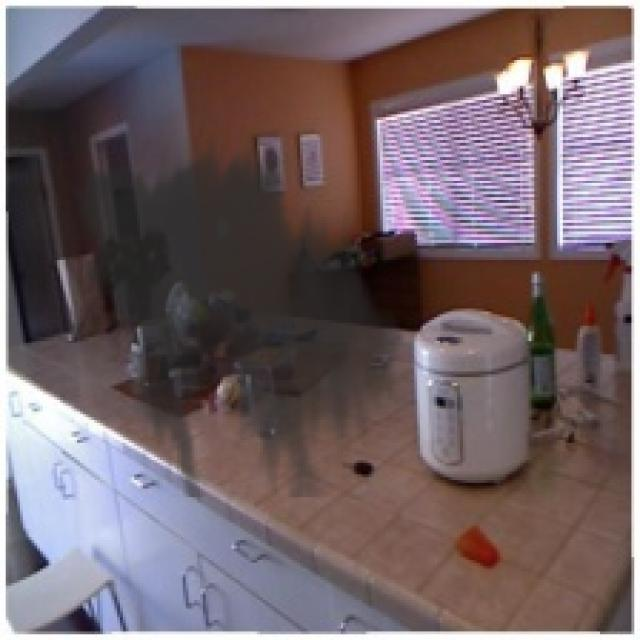smoke: (60, 132, 414, 497)
